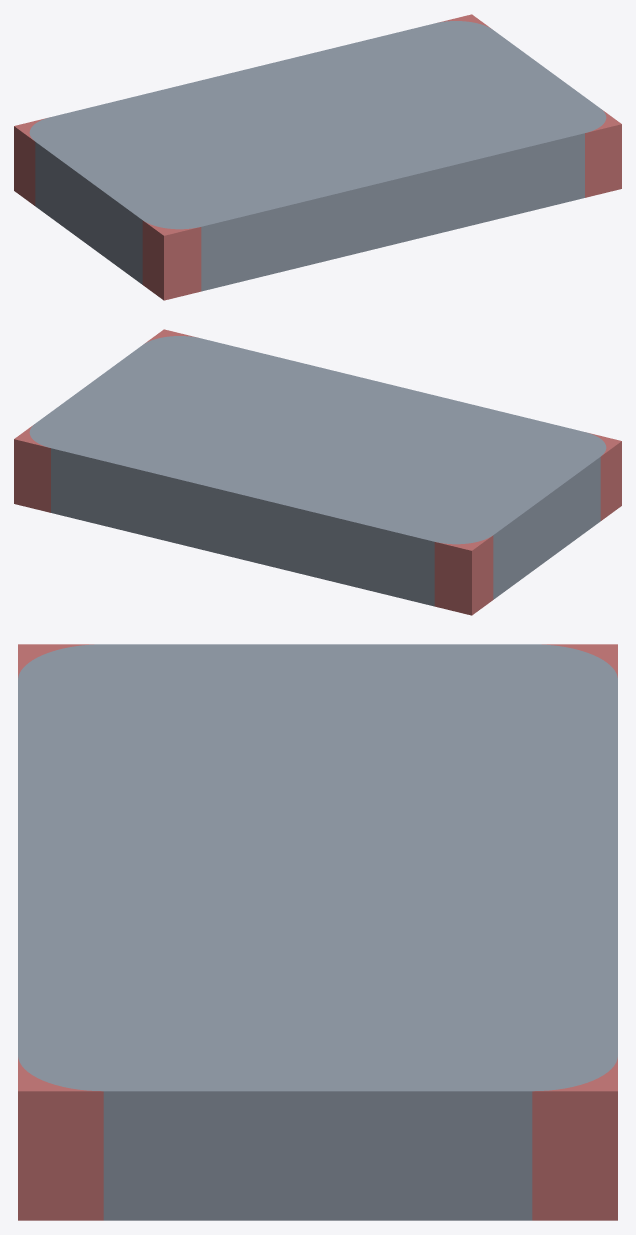
File: step_02.glb
3 renders of one model, top to bottom at view 1: azimuth 30°, elevation 25°; view 2: azimuth 150°, elevation 25°; view 3: azimuth 270°, elevation 25°, orthographic. The views are drawn at different scales.
Parts seen in each view (by area): view 1: part__pedestal bearing, removed__pedestal bearing; view 2: part__pedestal bearing, removed__pedestal bearing; view 3: part__pedestal bearing, removed__pedestal bearing.
Part boxes in pixels (x1,y1,x2,y2): part__pedestal bearing: (29, 21, 606, 291); removed__pedestal bearing: (14, 14, 621, 300); part__pedestal bearing: (29, 336, 606, 606); removed__pedestal bearing: (14, 329, 621, 615); part__pedestal bearing: (18, 644, 617, 1220); removed__pedestal bearing: (18, 644, 617, 1220).
Size of the model in its own units: 74 by 10 by 42.
